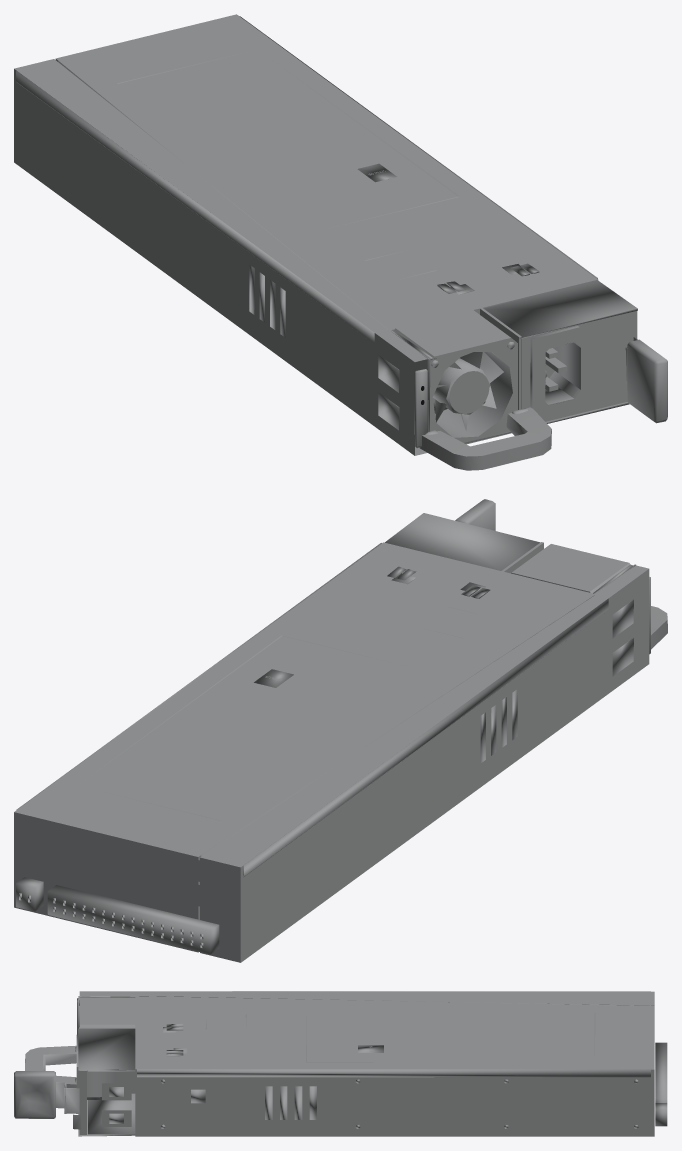
Rendered from C9K-PWR-650WAC-R.far.glb.
3 renders of one model, top to bottom at view 1: azimuth 30°, elevation 25°; view 2: azimuth 150°, elevation 25°; view 3: azimuth 270°, elevation 25°, orthographic. The views are drawn at different scales.
Parts seen in each view (by area): view 1: Body_far; view 2: Body_far; view 3: Body_far.
Boxes of the visible parts, left/top/right/bottom form: Body_far: left=14, top=14, right=667, bottom=470; Body_far: left=14, top=499, right=667, bottom=962; Body_far: left=14, top=991, right=667, bottom=1136.
Size of the model in its own units: 0.1009 by 0.041 by 0.3525.
2 materials, 1 textured.
